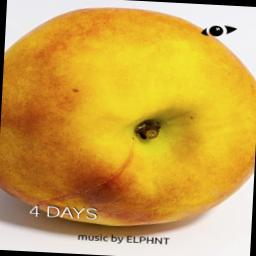Peach Ripe: (0, 0, 256, 235)
